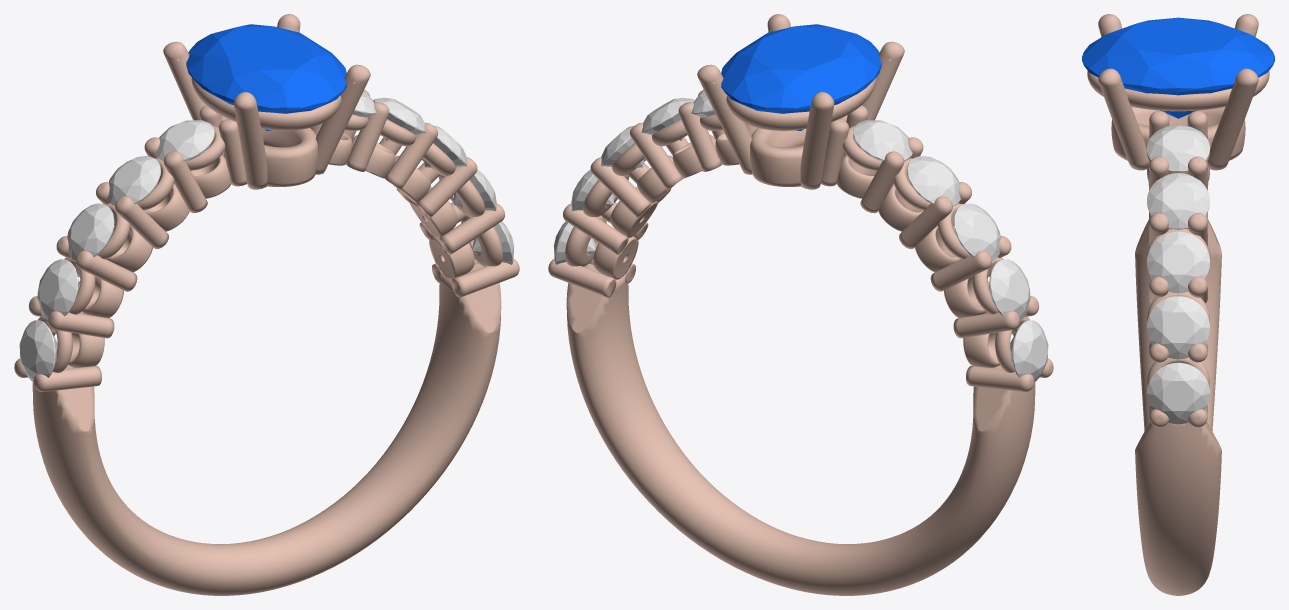
File: bluesapphire-oval-rosegold-4prong-taperedband-11stone.glb
The picture shows the model from 3 angles, left to right: view 1: azimuth 30°, elevation 25°; view 2: azimuth 150°, elevation 25°; view 3: azimuth 270°, elevation 25°; orthographic projection.
Parts seen in each view (by area): view 1: metal, stone.001, side.012, side.011, side.013, side.010, side.014, side.018, side.017, side.016; view 2: metal, stone.001, side.012, side.011, side.013, side.010, side.014, side.018, side.017, side.016; view 3: metal, stone.001, side.016, side.015, side.017, side.018, side.019.
Part boxes in pixels (x1=…): metal: x1=14, y1=14, x2=519, y2=595; stone.001: x1=186, y1=24, x2=346, y2=130; side.012: x1=67, y1=203, x2=114, y2=260; side.011: x1=37, y1=259, x2=79, y2=320; side.013: x1=107, y1=156, x2=160, y2=206; side.010: x1=19, y1=320, x2=57, y2=381; side.014: x1=155, y1=120, x2=214, y2=161; side.018: x1=373, y1=97, x2=426, y2=140; side.017: x1=423, y1=125, x2=466, y2=167; side.016: x1=454, y1=169, x2=496, y2=211; metal: x1=548, y1=14, x2=1053, y2=595; stone.001: x1=721, y1=24, x2=881, y2=130; side.012: x1=953, y1=203, x2=1000, y2=260; side.011: x1=988, y1=259, x2=1030, y2=320; side.013: x1=907, y1=156, x2=960, y2=206; side.010: x1=1010, y1=320, x2=1048, y2=381; side.014: x1=853, y1=120, x2=912, y2=161; side.018: x1=641, y1=97, x2=694, y2=140; side.017: x1=601, y1=125, x2=644, y2=167; side.016: x1=571, y1=169, x2=613, y2=211; metal: x1=1087, y1=14, x2=1269, y2=595; stone.001: x1=1082, y1=17, x2=1274, y2=118; side.016: x1=1147, y1=296, x2=1209, y2=359; side.015: x1=1147, y1=362, x2=1209, y2=424; side.017: x1=1147, y1=231, x2=1209, y2=293; side.018: x1=1147, y1=173, x2=1209, y2=229; side.019: x1=1147, y1=125, x2=1209, y2=172.
Bounding box in the file's own units: 21.88 × 23.4 × 7.64.
